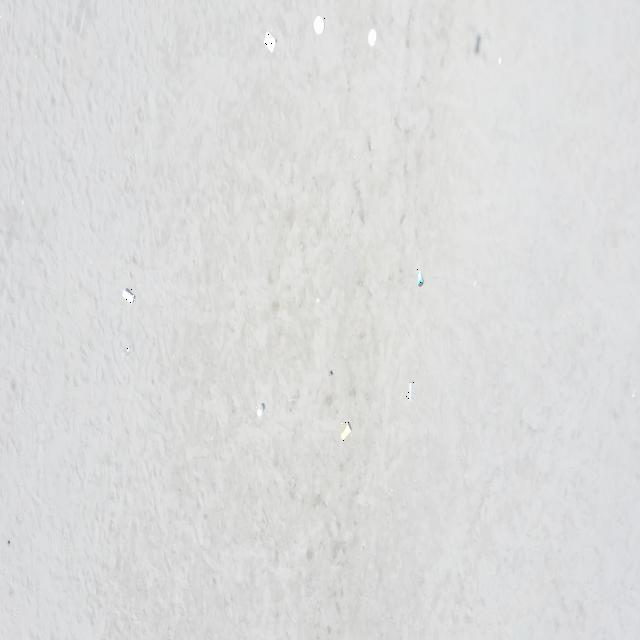take-away-containers: (262, 29, 276, 53), (313, 15, 325, 37), (367, 28, 377, 47)
takeaway-cup: (340, 422, 352, 442), (120, 343, 135, 359), (122, 288, 135, 305), (406, 382, 414, 402), (416, 268, 424, 286), (256, 402, 264, 418)
